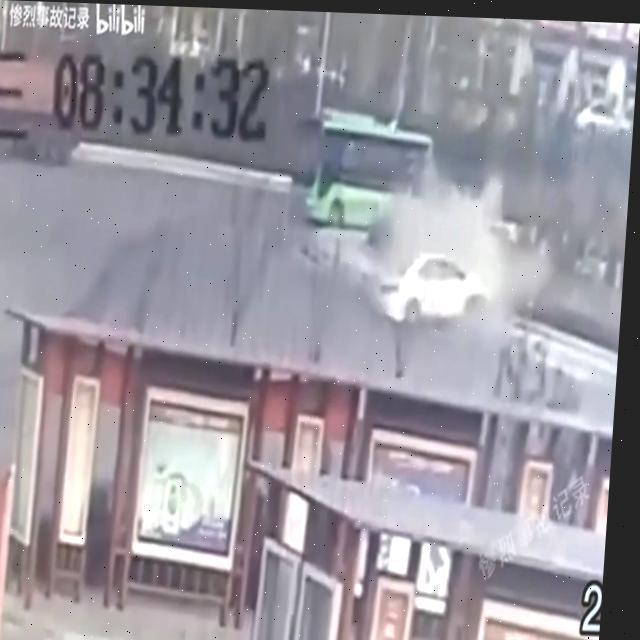multiple_accident: (288, 67, 532, 315)
